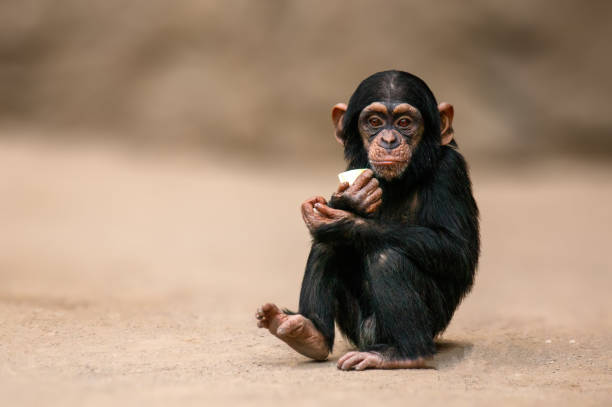chimpanzee: (299, 62, 468, 205)
